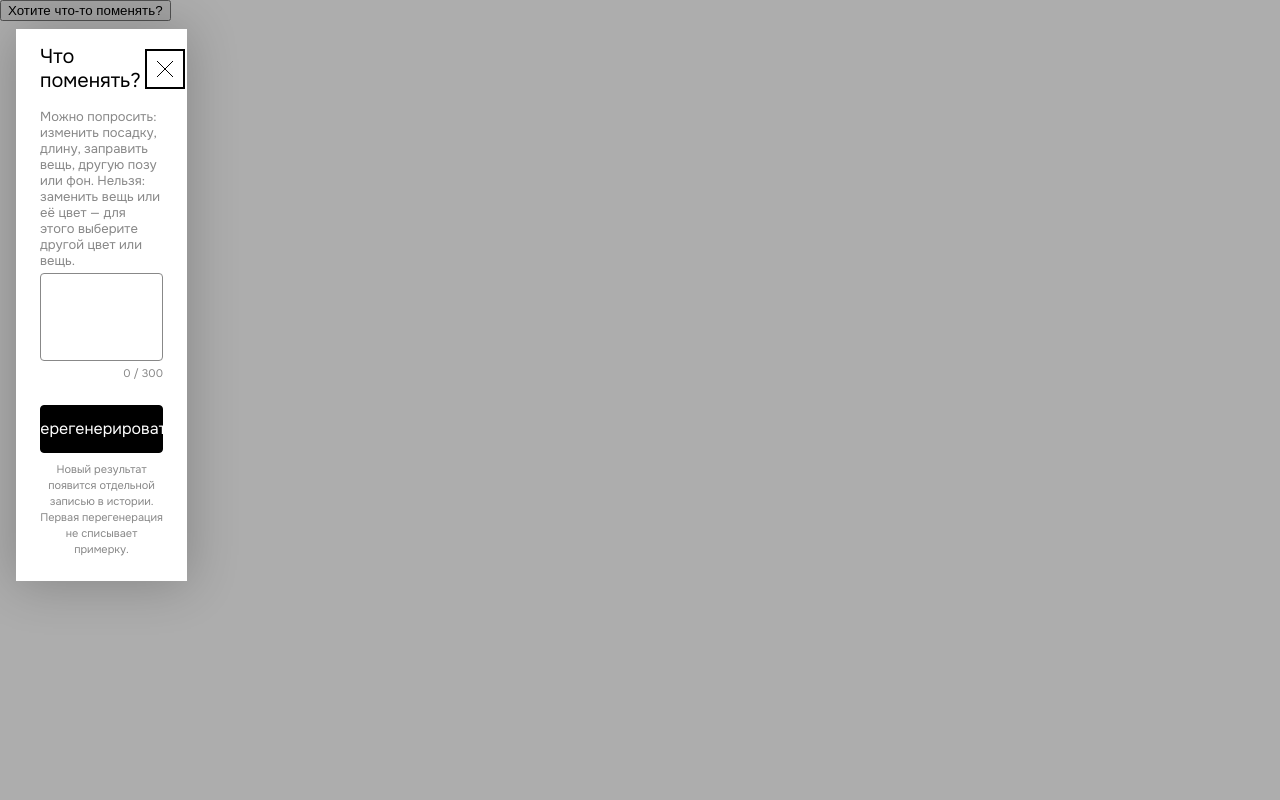
Test: RegeneratePopover › shows a refused comment under the field and spends nothing (AC9)
In the text box named "Что поменять": (102, 317) [40,273,163,361], type "плохой текст"
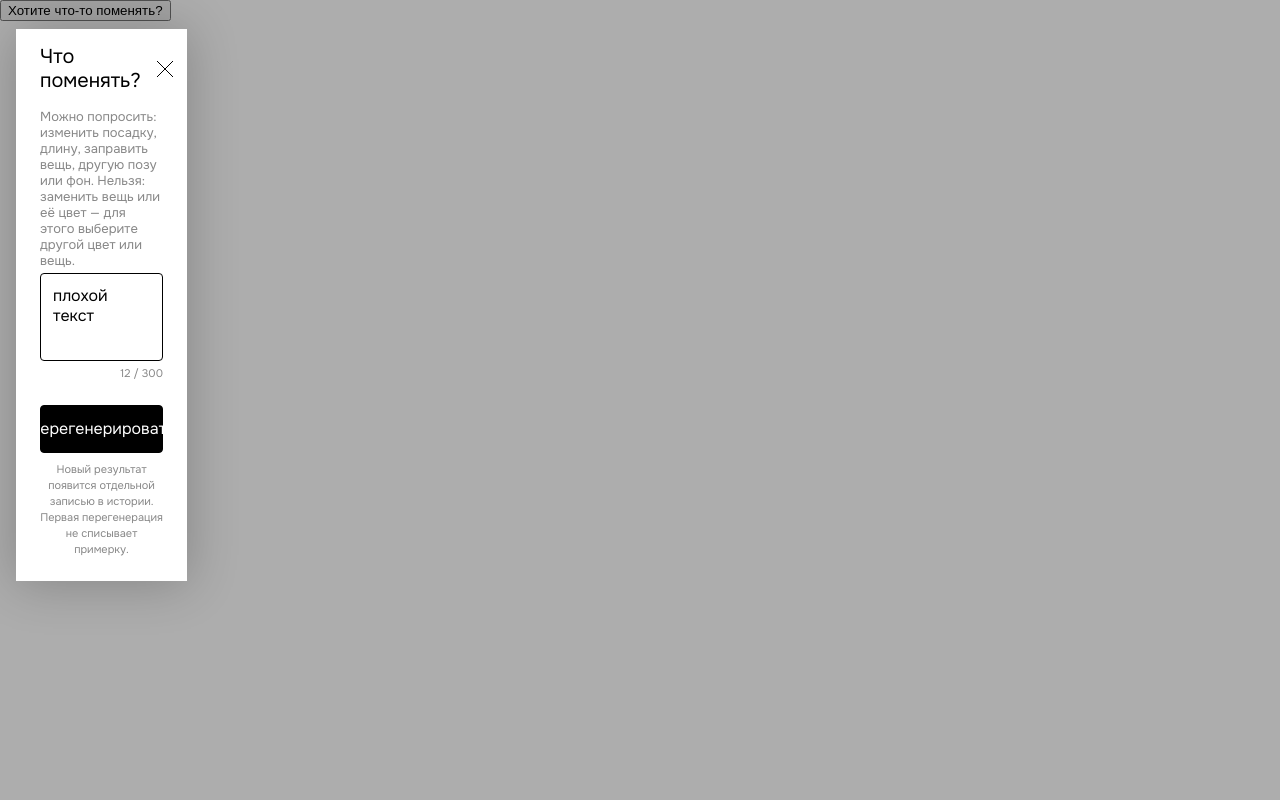
Click the button "Перегенерировать": click(102, 429) [40,405,163,453]
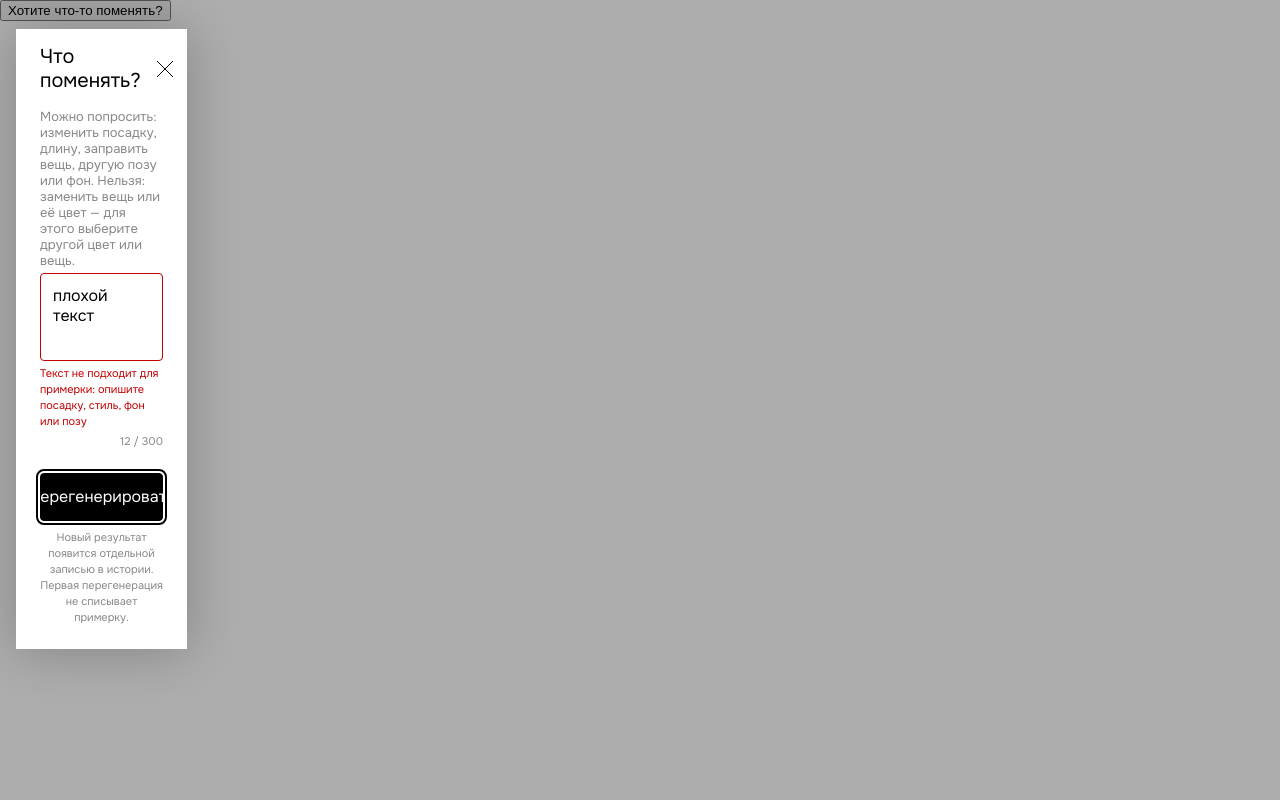
Check: the message reads "Текст не подходит для примерки: опишите посадку, стиль, фон или позу", box [40,366,158,428]
